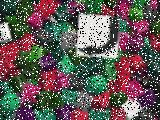Right: (76, 14, 120, 58)
